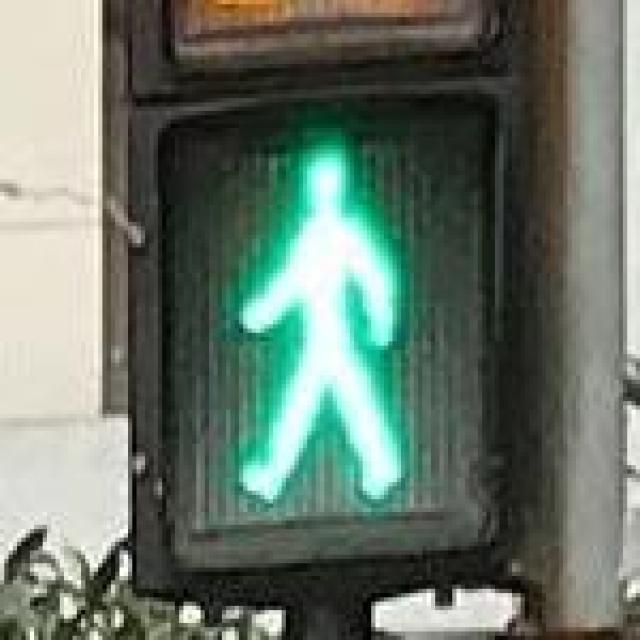geen-crossing: (158, 102, 478, 529)
